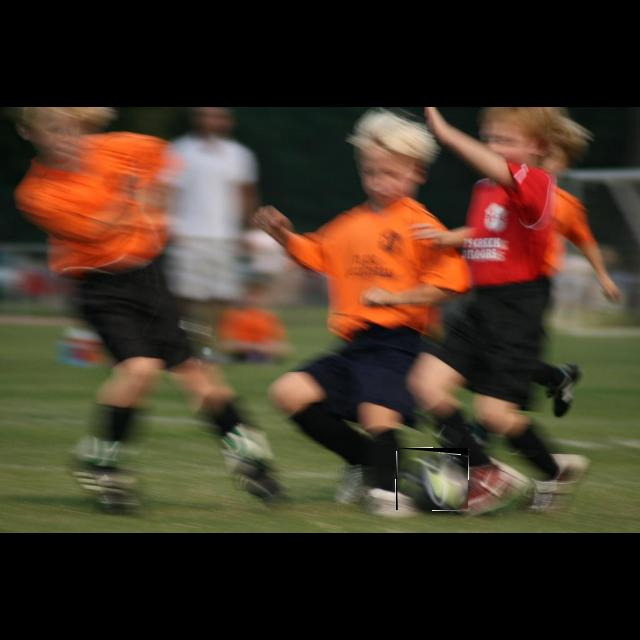Football: (396, 448, 468, 510)
